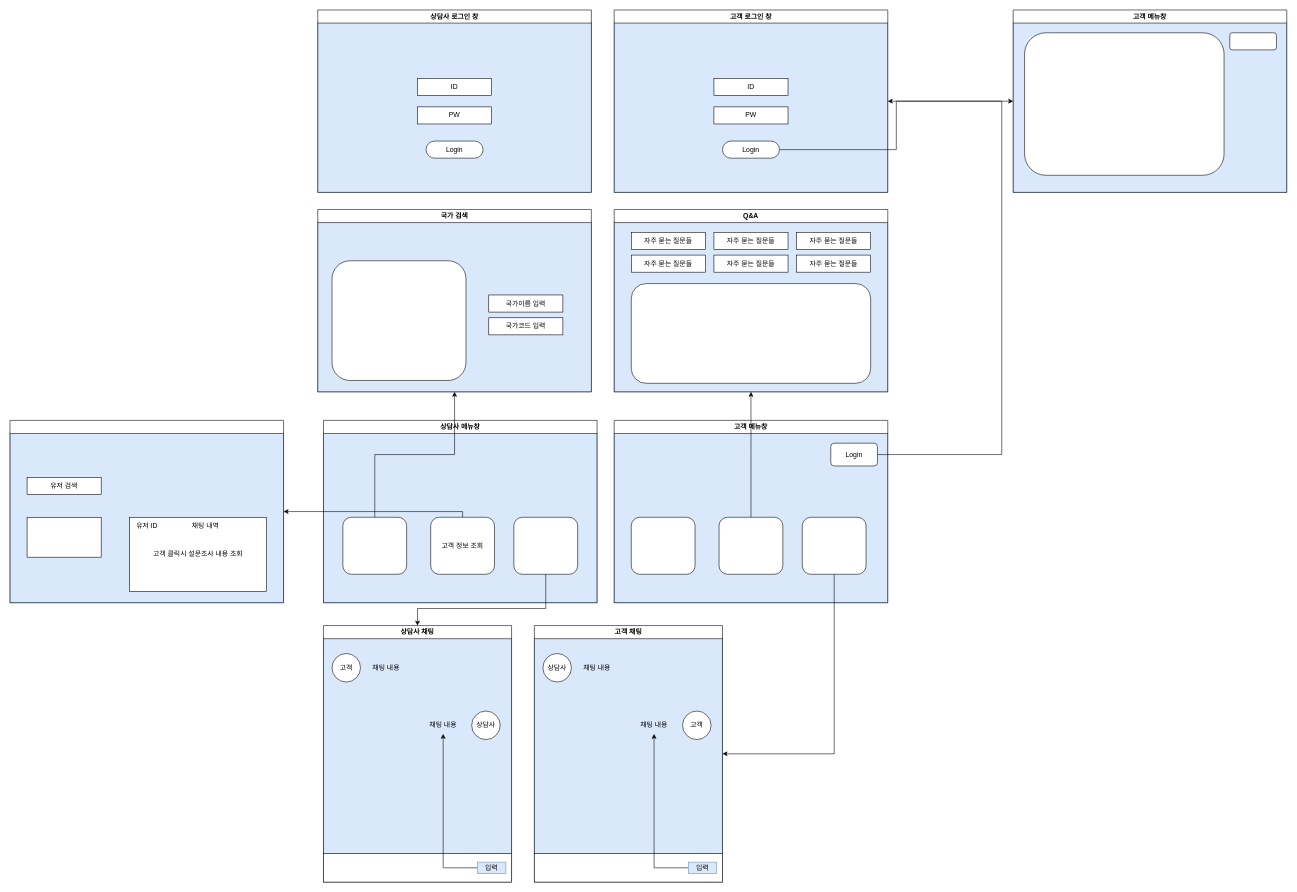
The diagram is 1297 pixels wide and 892 high, and some of its shapes have lost their labels. The shapes that lost their labels are listed below. From the top down, each one's centre as x and y in pixels, then its label:
point (1252, 41): 확인
point (1124, 103): 설문 조사
point (398, 320): 국가에 대한 내용
point (751, 333): 위에 버튼 클릭시 출력
point (146, 511): 메인 화면
point (64, 537): 유저 정보
point (374, 545): API 조회
point (545, 545): 고객 1:1 채팅
point (663, 545): API 검색
point (750, 545): 자주 묻는 Q&A
point (834, 545): 상담사 1:1 채팅
